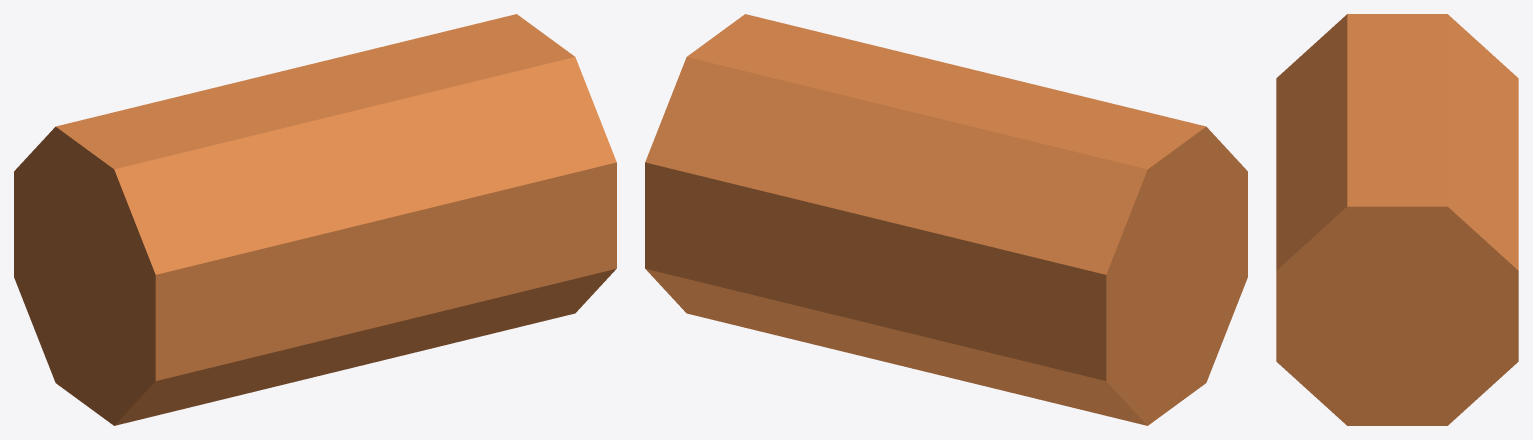
File: item-copper.glb
3 renders of one model, left to right at view 1: azimuth 30°, elevation 25°; view 2: azimuth 150°, elevation 25°; view 3: azimuth 270°, elevation 25°, orthographic. The views are drawn at different scales.
Visible parts, largest first — view 1: item-copper; view 2: item-copper; view 3: item-copper.
Boxes of the visible parts, <box> form: item-copper: <box>14,14,616,425</box>; item-copper: <box>645,14,1247,425</box>; item-copper: <box>1276,14,1518,425</box>.
Size of the model in its own units: 0.285 by 0.1515 by 0.1515.
